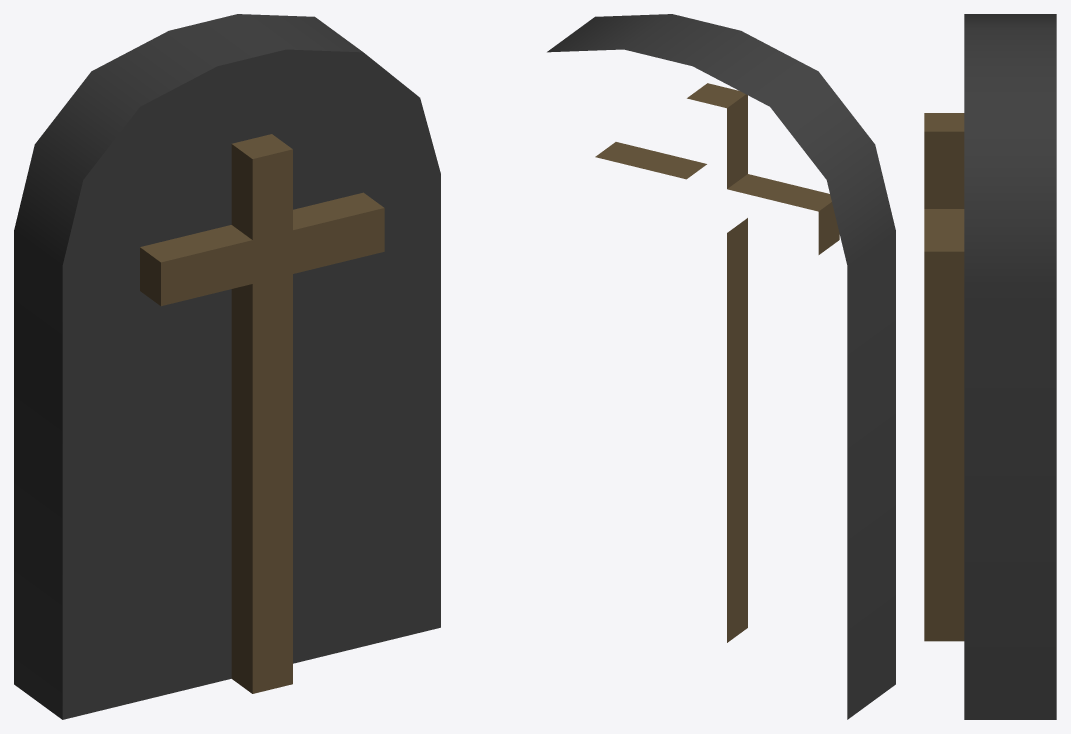
File: Tombstone.glb
3 renders of one model, left to right at view 1: azimuth 30°, elevation 25°; view 2: azimuth 150°, elevation 25°; view 3: azimuth 270°, elevation 25°, orthographic. The views are drawn at different scales.
Parts seen in each view (by area): view 1: Tombstone; view 2: Tombstone; view 3: Tombstone.
Boxes of the visible parts, left/top/right/bottom form: Tombstone: left=14, top=14, right=440, bottom=719; Tombstone: left=547, top=14, right=895, bottom=719; Tombstone: left=924, top=14, right=1056, bottom=719.
Bounding box in the file's own units: 0.9 × 1.4 × 0.2863.
